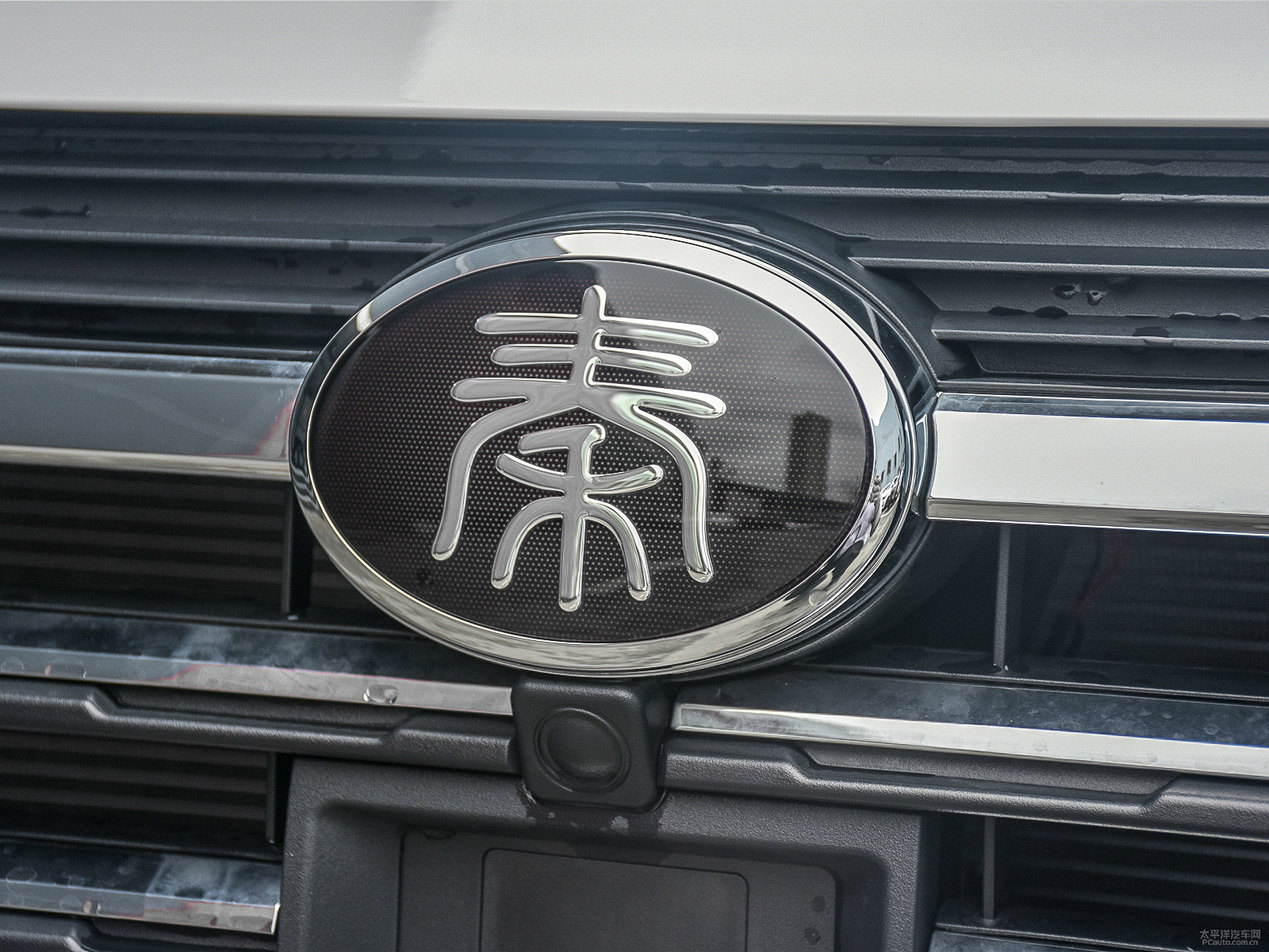BYD Qin: (291, 235, 911, 676)
